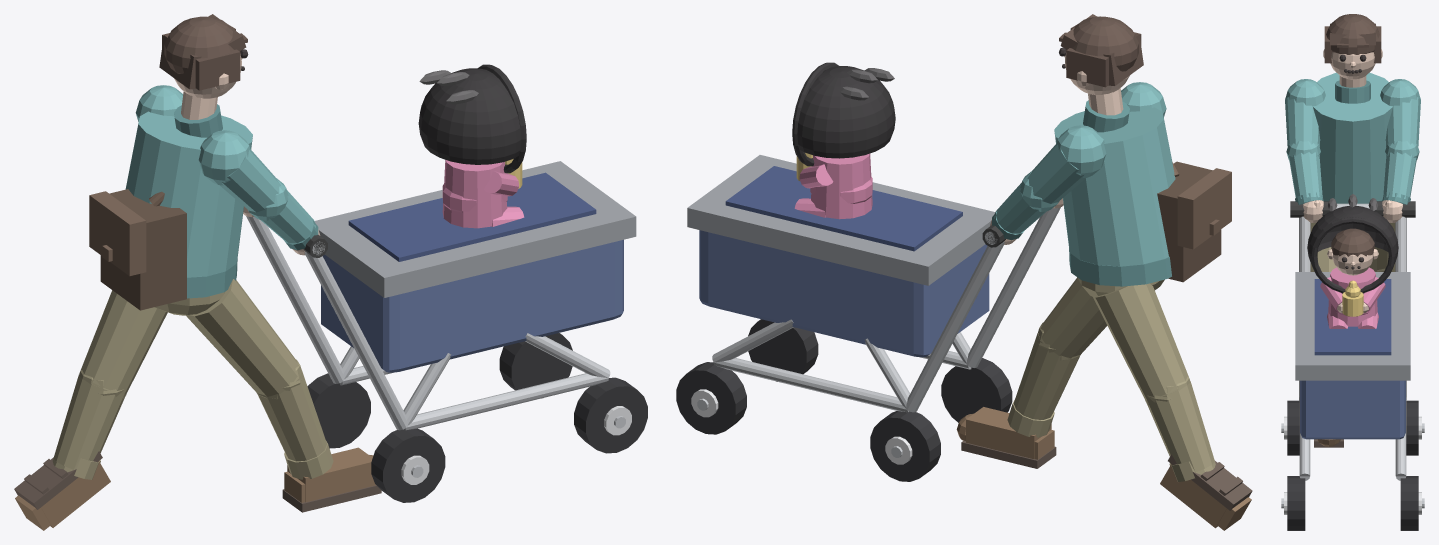
Rendered from 43-man-with-stroller.glb.
3 renders of one model, left to right at view 1: azimuth 30°, elevation 25°; view 2: azimuth 150°, elevation 25°; view 3: azimuth 270°, elevation 25°, orthographic. The views are drawn at different scales.
Parts seen in each view (by area): view 1: Tub, TubRim, SweaterBody, TubOpening, Canopy, LegR_Thigh, BagBody, LegL_Thigh, LegL_Shin, WheelBR_Tire, WheelFR_Tire, BagFlap (+25 smaller); view 2: Tub, SweaterBody, TubRim, TubOpening, Canopy, LegL_Thigh, LegL_Shin, WheelFL_Tire, WheelBL_Tire, BagFlap, BagBody, LegR_Thigh (+24 smaller); view 3: SweaterBody, TubRim, Tub, TubOpening, Canopy, CanopyRim, HairCap, SleeveL_Upper, SleeveR_Upper, SleeveL_Fore, SleeveR_Fore, BabyBody (+31 smaller).
Part boxes in pixels (left/top/right/bottom): Tub: left=321, top=239, right=623, bottom=372; TubRim: left=314, top=161, right=636, bottom=297; SweaterBody: left=125, top=111, right=252, bottom=277; TubOpening: left=348, top=172, right=596, bottom=261; Canopy: left=418, top=68, right=521, bottom=164; LegR_Thigh: left=186, top=279, right=298, bottom=396; BagBody: left=100, top=189, right=186, bottom=310; LegL_Thigh: left=81, top=290, right=167, bottom=394; LegL_Shin: left=53, top=375, right=126, bottom=469; WheelBR_Tire: left=371, top=428, right=445, bottom=502; WheelFR_Tire: left=574, top=377, right=647, bottom=453; BagFlap: left=89, top=191, right=146, bottom=275; Tub: left=699, top=230, right=989, bottom=357; SweaterBody: left=1054, top=107, right=1175, bottom=266; TubRim: left=687, top=155, right=995, bottom=285; TubOpening: left=725, top=166, right=962, bottom=251; Canopy: left=797, top=66, right=895, bottom=158; LegL_Thigh: left=1092, top=283, right=1188, bottom=399; LegL_Shin: left=1145, top=381, right=1214, bottom=472; WheelFL_Tire: left=676, top=362, right=746, bottom=434; WheelBL_Tire: left=870, top=411, right=940, bottom=481; BagFlap: left=1177, top=168, right=1231, bottom=249; BagBody: left=1157, top=161, right=1221, bottom=282; LegR_Thigh: left=1040, top=278, right=1107, bottom=358; SweaterBody: left=1313, top=72, right=1392, bottom=203; TubRim: left=1295, top=272, right=1410, bottom=380; Tub: left=1300, top=380, right=1405, bottom=439; TubOpening: left=1314, top=279, right=1391, bottom=355; Canopy: left=1307, top=206, right=1398, bottom=263; CanopyRim: left=1310, top=217, right=1395, bottom=293; HairCap: left=1326, top=14, right=1379, bottom=54; SleeveL_Upper: left=1385, top=97, right=1420, bottom=146; SleeveR_Upper: left=1285, top=97, right=1320, bottom=146; SleeveL_Fore: left=1383, top=152, right=1416, bottom=199; SleeveR_Fore: left=1289, top=152, right=1322, bottom=199; BabyBody: left=1328, top=267, right=1377, bottom=326.
Size of the model in its own units: 2.06 by 1.72 by 0.595.
